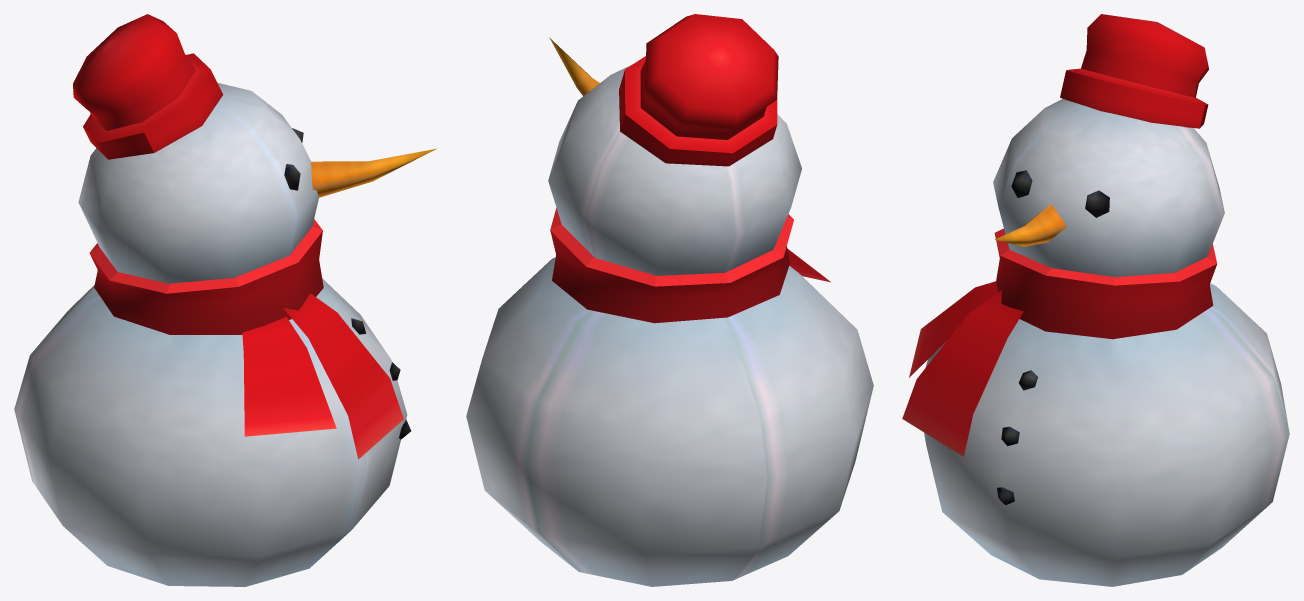
The model's file is Snowman.glb.
The picture shows the model from 3 angles, left to right: view 1: azimuth 30°, elevation 25°; view 2: azimuth 150°, elevation 25°; view 3: azimuth 270°, elevation 25°; orthographic projection. The views are drawn at different scales.
Visible parts, largest first — view 1: Snowman.001; view 2: Snowman.001; view 3: Snowman.001.
Part boxes in pixels (x1,y1,x2,y2): Snowman.001: [14, 14, 436, 586]; Snowman.001: [466, 14, 873, 586]; Snowman.001: [902, 14, 1289, 586].
Bounding box in the file's own units: 1.32 × 1.95 × 1.34.
Materials: 1 (1 with a texture image).
